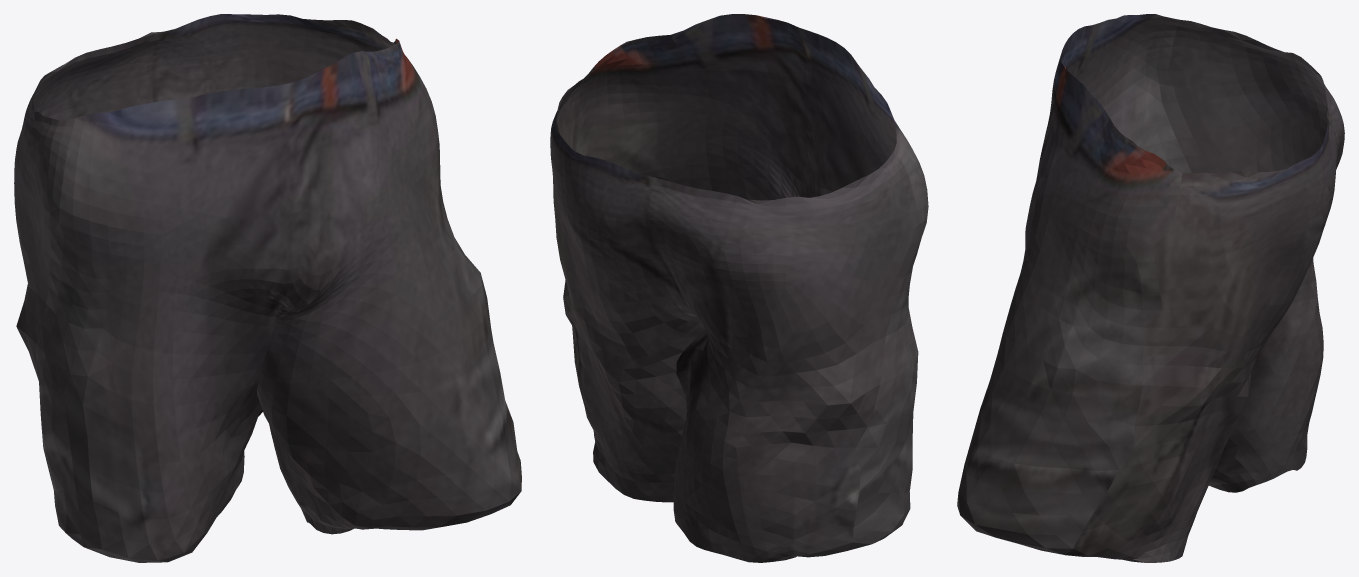
File: lower_with_material.obj
3 renders of one model, left to right at view 1: azimuth 30°, elevation 25°; view 2: azimuth 150°, elevation 25°; view 3: azimuth 270°, elevation 25°, orthographic. The views are drawn at different scales.
Size of the model in its own units: 0.4393 by 0.513 by 0.3952.
